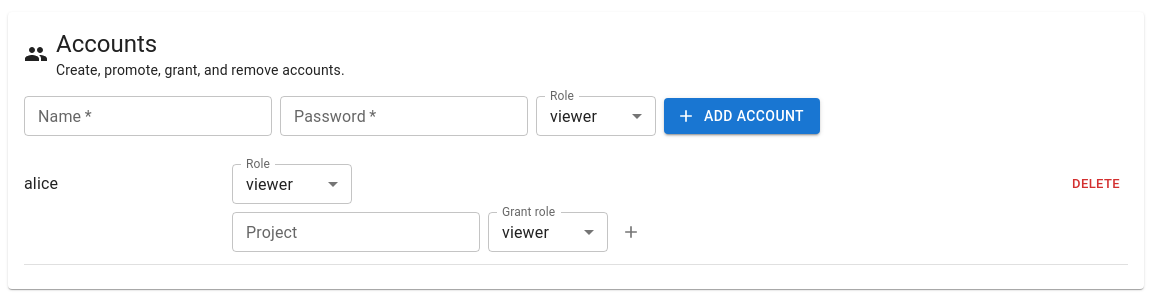
adding a project grant shows the new grant once the request succeeds
Step 1. Type "demo" into the field labelled "Project" → (356, 232), box [232,212,480,252]
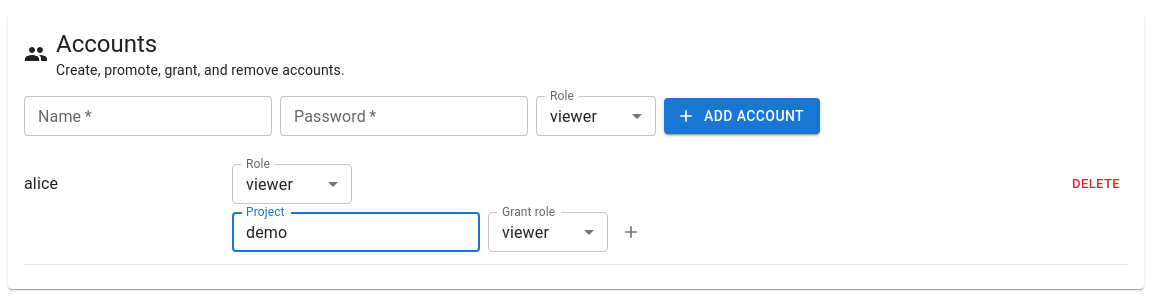
Step 2. Click the button named "Add grant" → (631, 232), box [616,217,646,247]
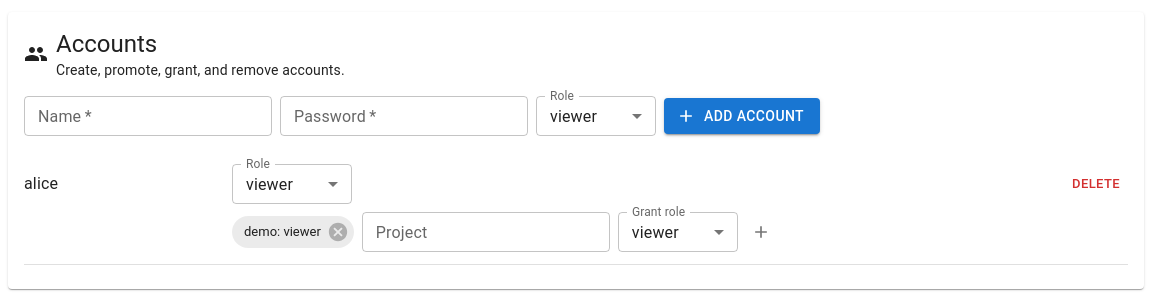
Expected: the text "demo: viewer" is shown, [244,224,321,239]
